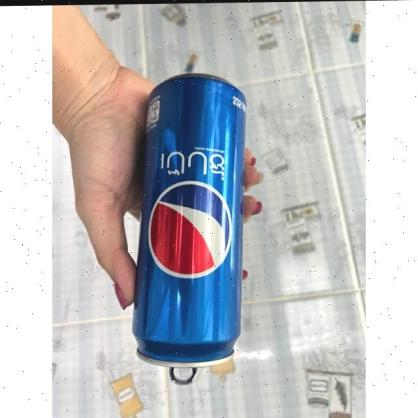can: (130, 75, 247, 368)
